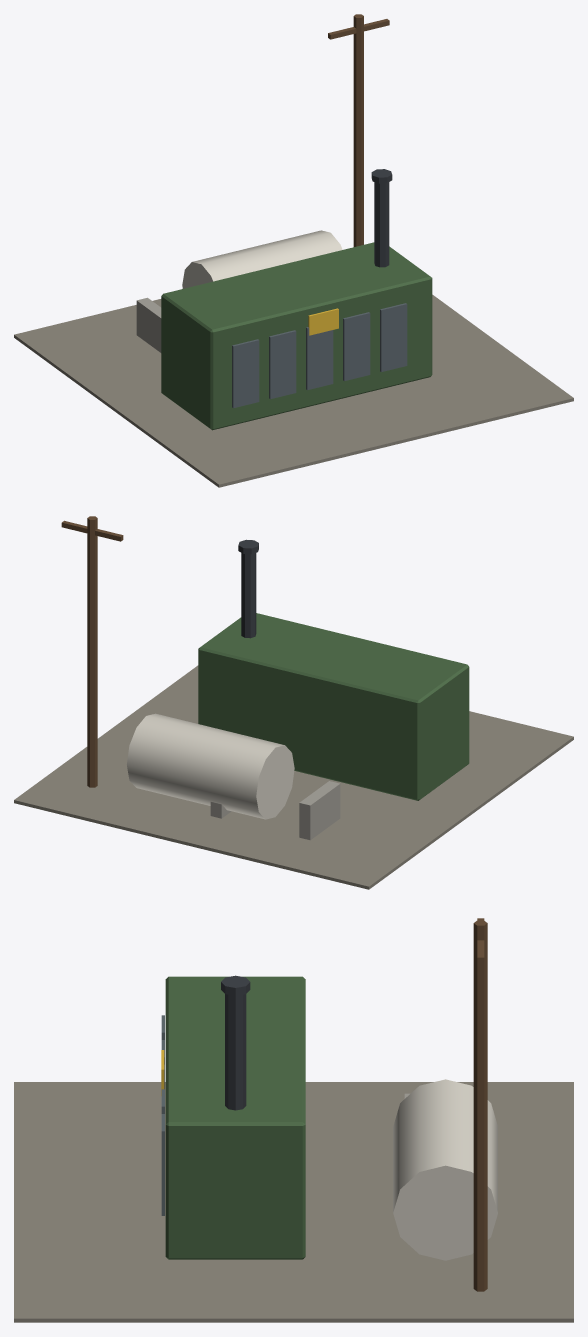
File: generator.glb
The picture shows the model from 3 angles, top to bottom: view 1: azimuth 30°, elevation 25°; view 2: azimuth 150°, elevation 25°; view 3: azimuth 270°, elevation 25°; orthographic projection. The views are drawn at different scales.
Parts seen in each view (by area): view 1: generator; view 2: generator; view 3: generator.
Boxes of the visible parts, bbox=[...] form: generator: bbox=[14, 14, 573, 487]; generator: bbox=[14, 516, 573, 889]; generator: bbox=[14, 918, 573, 1322].
Size of the model in its own units: 9.6 by 7 by 9.6.
